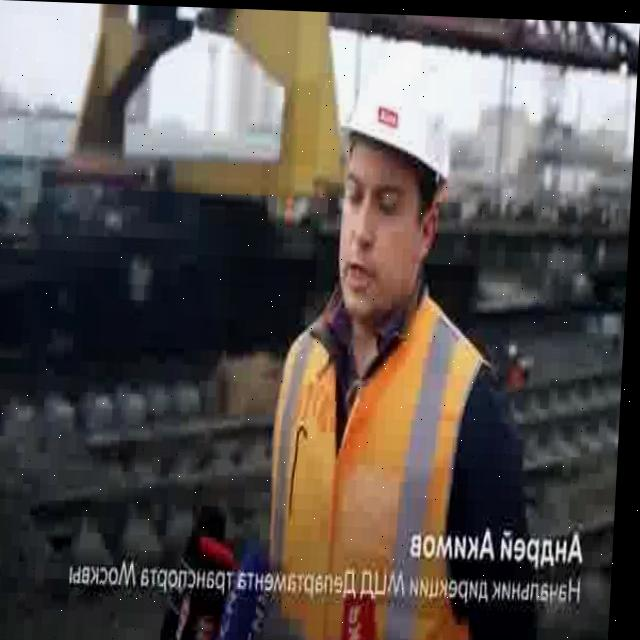Helmet: (339, 84, 455, 177)
Safety-Vest: (268, 285, 498, 640)
